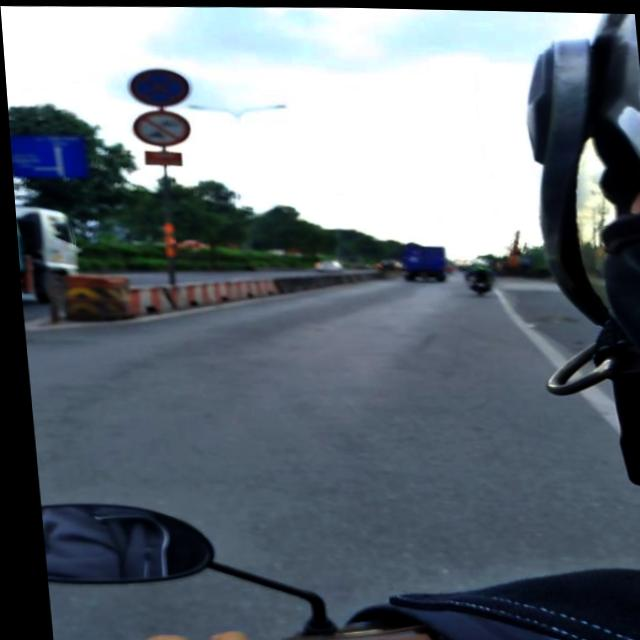Cam dung xe va do xe: (127, 67, 190, 107)
